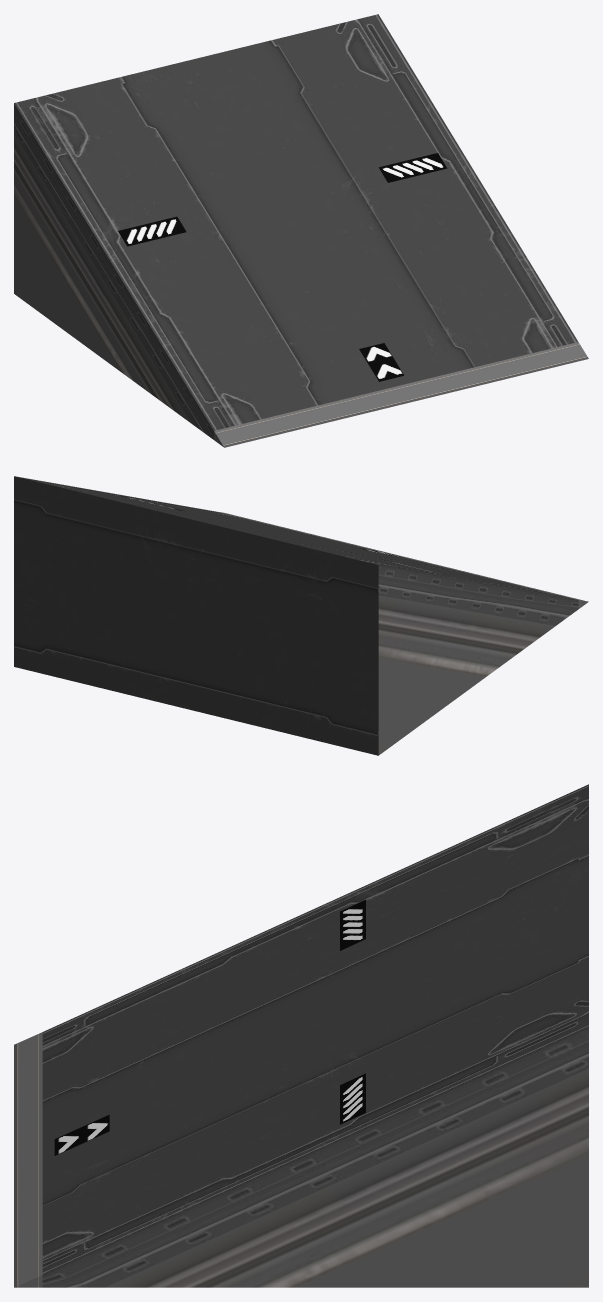
File: platform_ramp_2.gltf
The picture shows the model from 3 angles, top to bottom: view 1: azimuth 30°, elevation 25°; view 2: azimuth 150°, elevation 25°; view 3: azimuth 270°, elevation 25°; orthographic projection. The views are drawn at different scales.
Visible parts, largest first — view 1: Platform_Ramp_2; view 2: Platform_Ramp_2; view 3: Platform_Ramp_2.
Part boxes in pixels (bbox=[...]): Platform_Ramp_2: bbox=[14, 14, 588, 447]; Platform_Ramp_2: bbox=[14, 476, 588, 755]; Platform_Ramp_2: bbox=[14, 784, 588, 1287].
Bounding box in the file's own units: 2 × 1 × 2.
Materials: 3 (3 with a texture image).
